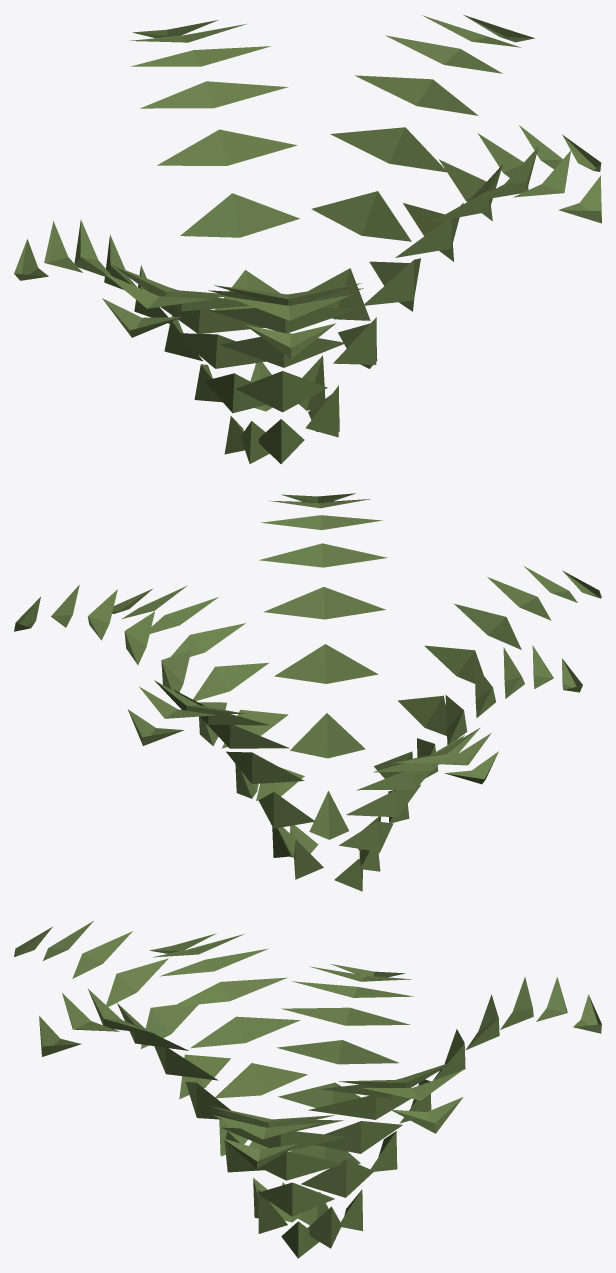
Rendered from fern.glb.
3 views of the same model, one above another, from view 1: azimuth 30°, elevation 25°; view 2: azimuth 150°, elevation 25°; view 3: azimuth 270°, elevation 25° (orthographic). The views are drawn at different scales.
Visible parts, largest first — view 1: fern; view 2: fern; view 3: fern.
Part boxes in pixels (<box>): fern: <box>14,15,601,464</box>; fern: <box>14,493,601,891</box>; fern: <box>14,921,601,1258</box>.
Bounding box in the file's own units: 0.8713 × 0.5139 × 0.9501.
